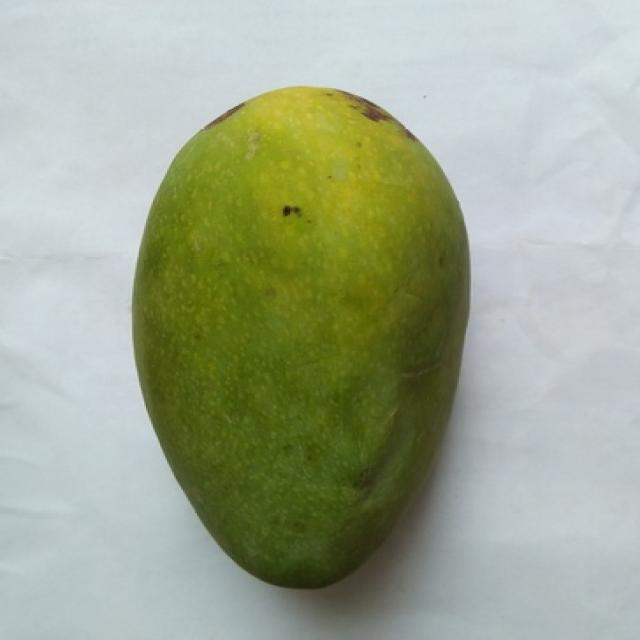Mango: (134, 88, 468, 585)
